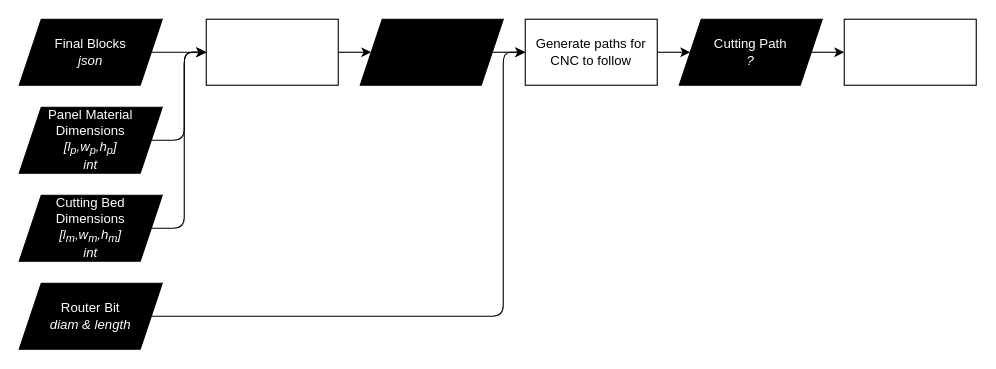
Image size: 996x369. Some labels were removed from this diagram. The centre of each missing label's shape, as x and y in pixels:
Animation of CNC path: the point at 909,51
Geometries json: the point at 431,51
Orient Block(s) on Panel, on Cutting Bed: the point at 271,51
